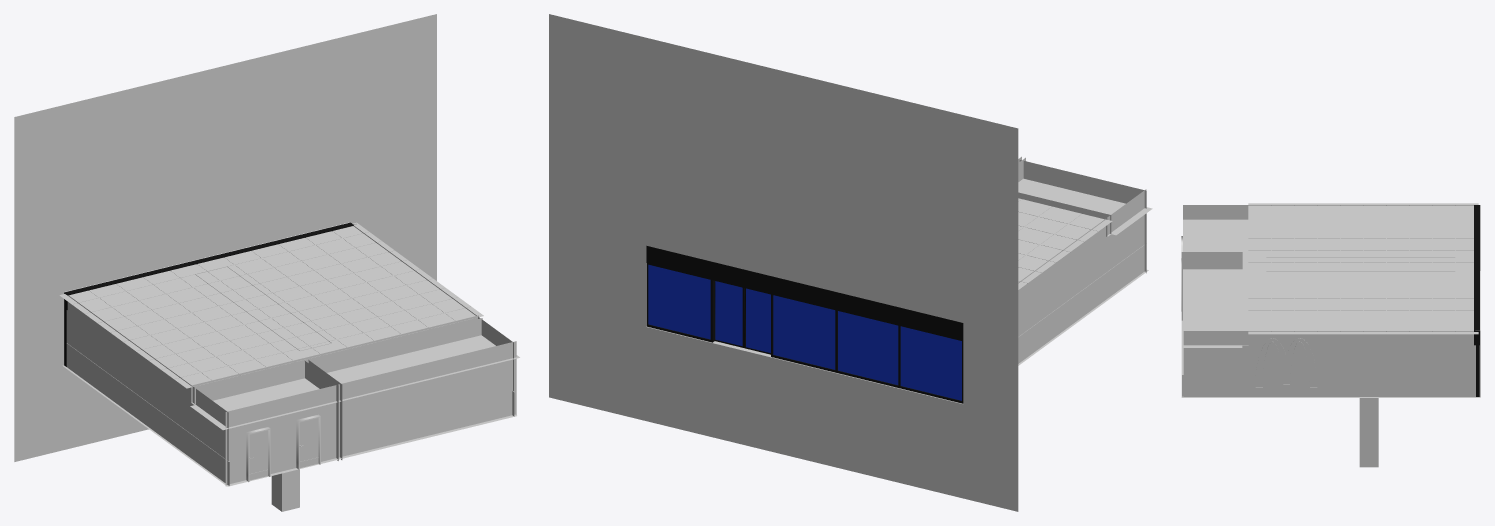
File: estantes-avatares.fbx
The picture shows the model from 3 angles, left to right: view 1: azimuth 30°, elevation 25°; view 2: azimuth 150°, elevation 25°; view 3: azimuth 270°, elevation 25°; orthographic projection. The views are drawn at different scales.
Parts seen in each view (by area): view 1: Object045, Object207, Object182, Object181, Box016, Object196, Plane001, Box010, Object179, Box050, Box015, Box047 (+2 smaller); view 2: Object045, Object190, Object181, Box010, Object207, Object191, Object187, Object182, Object196, Object192, Object193, Object179; view 3: Object207, Object180, Object196, Plane001, Box050, Object181, Box015, Box010, Box016, Object179, Box018.
Part boxes in pixels (x1=…): Object045: x1=14, y1=14, x2=436, y2=461; Object207: x1=59, y1=222, x2=483, y2=388; Object182: x1=225, y1=341, x2=516, y2=486; Object181: x1=64, y1=292, x2=228, y2=485; Box016: x1=191, y1=315, x2=482, y2=404; Object196: x1=190, y1=335, x2=519, y2=430; Plane001: x1=72, y1=231, x2=471, y2=382; Box010: x1=64, y1=222, x2=353, y2=309; Object179: x1=62, y1=365, x2=516, y2=486; Box050: x1=271, y1=469, x2=299, y2=511; Box015: x1=305, y1=359, x2=342, y2=460; Box047: x1=299, y1=418, x2=318, y2=461; Object045: x1=549, y1=14, x2=1018, y2=511; Object190: x1=773, y1=295, x2=961, y2=400; Object181: x1=1018, y1=189, x2=1146, y2=363; Box010: x1=646, y1=245, x2=963, y2=339; Object207: x1=1018, y1=198, x2=1112, y2=289; Object191: x1=648, y1=264, x2=710, y2=339; Object187: x1=646, y1=263, x2=963, y2=403; Object182: x1=1019, y1=160, x2=1146, y2=273; Object196: x1=1018, y1=178, x2=1152, y2=235; Object192: x1=715, y1=281, x2=742, y2=346; Object193: x1=746, y1=288, x2=770, y2=352; Object179: x1=646, y1=270, x2=1148, y2=403; Object207: x1=1248, y1=203, x2=1478, y2=334; Object180: x1=1183, y1=331, x2=1475, y2=396; Object196: x1=1183, y1=219, x2=1242, y2=347; Plane001: x1=1248, y1=203, x2=1473, y2=334; Box050: x1=1359, y1=398, x2=1378, y2=467; Object181: x1=1183, y1=205, x2=1480, y2=270; Box015: x1=1181, y1=252, x2=1242, y2=320; Box010: x1=1474, y1=205, x2=1479, y2=345; Box016: x1=1242, y1=219, x2=1248, y2=345; Object179: x1=1181, y1=271, x2=1480, y2=397; Box018: x1=1266, y1=257, x2=1454, y2=271.
Bounding box in the file's own units: 23.4 × 20.9 × 15.88.
